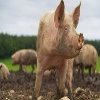heo: (48, 1, 91, 61), (76, 43, 99, 79), (8, 48, 38, 69), (1, 62, 14, 82)
